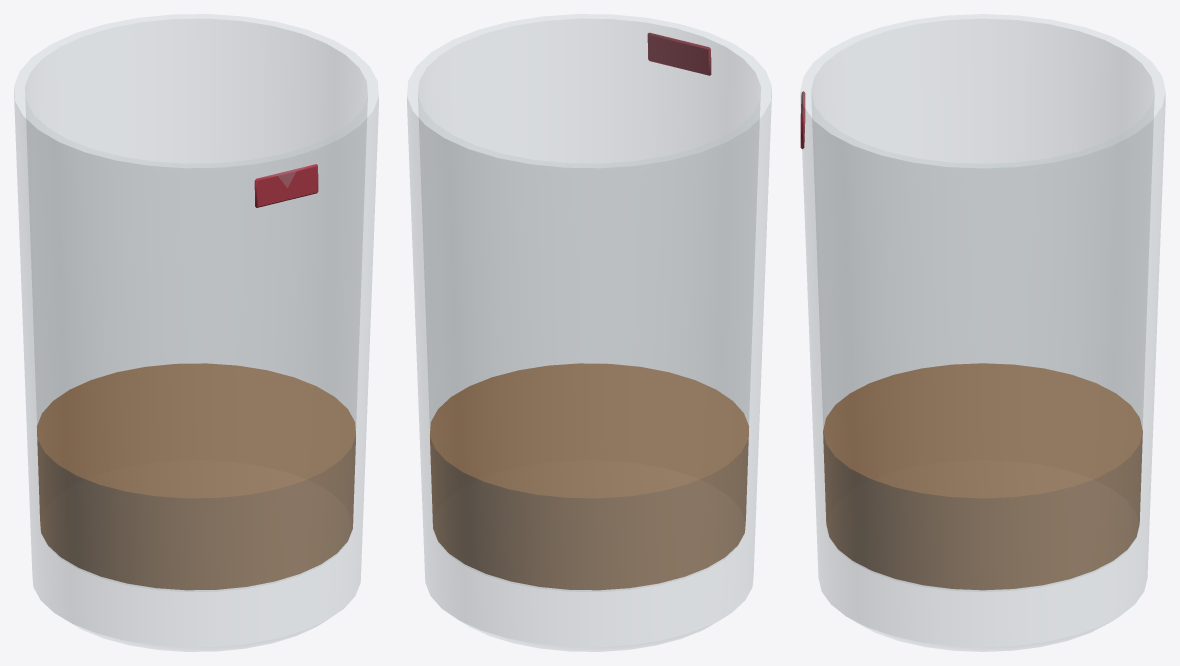
File: drinking_glass.glb
3 views of the same model, side by side, from view 1: azimuth 30°, elevation 25°; view 2: azimuth 150°, elevation 25°; view 3: azimuth 270°, elevation 25° (orthographic).
Parts seen in each view (by area): view 1: drinking_glass; view 2: drinking_glass; view 3: drinking_glass.
Boxes of the visible parts, <box> form: drinking_glass: <box>14,14,378,651</box>; drinking_glass: <box>407,14,771,651</box>; drinking_glass: <box>800,14,1165,651</box>.
Bounding box in the file's own units: 0.08 × 0.12 × 0.08.
